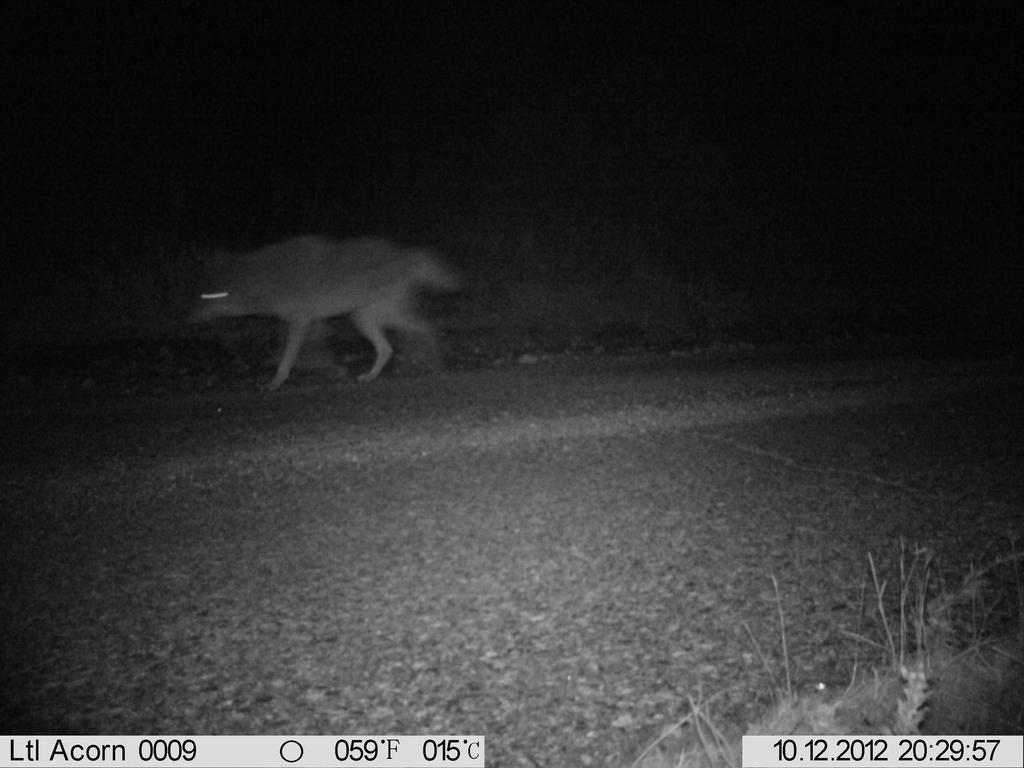coyote: (178, 226, 461, 392)
